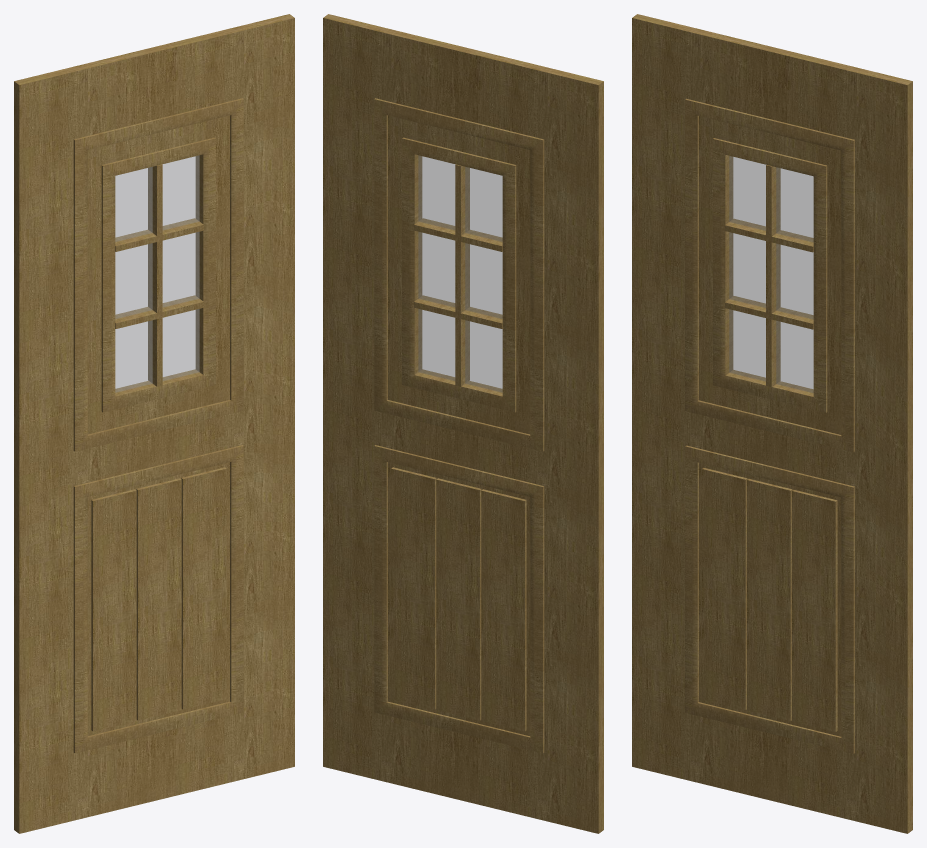
The model's file is SM_Door_5.fbx.
The picture shows the model from 3 angles, left to right: view 1: azimuth 30°, elevation 25°; view 2: azimuth 150°, elevation 25°; view 3: azimuth 330°, elevation 25°; orthographic projection.
Visible parts, largest first — view 1: GDLM829_GDLM946_mGDLM254_Laye, GDLM785_GDLM811_mGDLM212_Laye.001, GDLM785_GDLM811_mGDLM212_Laye.002; view 2: GDLM829_GDLM946_mGDLM254_Laye, GDLM785_GDLM811_mGDLM212_Laye.002, GDLM785_GDLM811_mGDLM212_Laye.001; view 3: GDLM829_GDLM946_mGDLM254_Laye, GDLM785_GDLM811_mGDLM212_Laye.001, GDLM785_GDLM811_mGDLM212_Laye.002.
Part boxes in pixels (<box>): GDLM829_GDLM946_mGDLM254_Laye: <box>14,14,294,833</box>; GDLM785_GDLM811_mGDLM212_Laye.001: <box>115,155,199,392</box>; GDLM785_GDLM811_mGDLM212_Laye.002: <box>116,156,198,391</box>; GDLM829_GDLM946_mGDLM254_Laye: <box>323,14,603,833</box>; GDLM785_GDLM811_mGDLM212_Laye.002: <box>418,155,502,392</box>; GDLM785_GDLM811_mGDLM212_Laye.001: <box>419,156,501,391</box>; GDLM829_GDLM946_mGDLM254_Laye: <box>632,14,912,833</box>; GDLM785_GDLM811_mGDLM212_Laye.001: <box>729,156,813,392</box>; GDLM785_GDLM811_mGDLM212_Laye.002: <box>730,156,812,391</box>.
Bounding box in the file's own units: 0.882 × 2.29 × 0.05.
2 materials, 1 textured.
